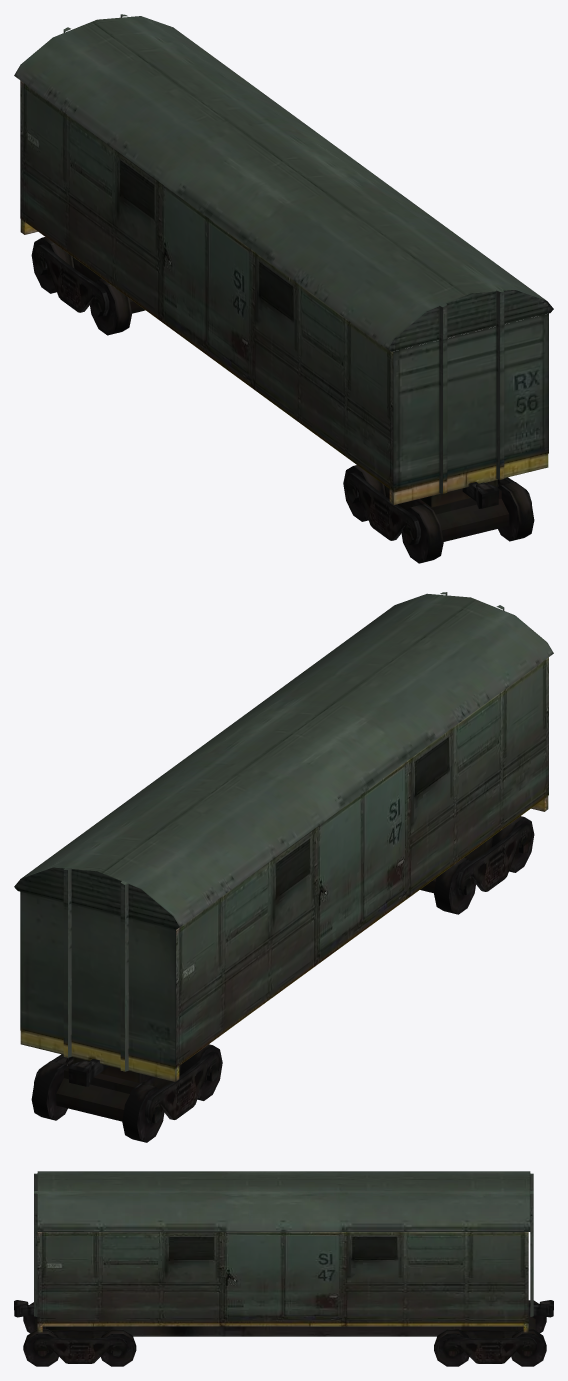
Rendered from train003.glb.
3 views of the same model, one above another, from view 1: azimuth 30°, elevation 25°; view 2: azimuth 150°, elevation 25°; view 3: azimuth 270°, elevation 25° (orthographic). The views are drawn at different scales.
Parts seen in each view (by area): view 1: 0_train003; view 2: 0_train003; view 3: 0_train003.
Part boxes in pixels (x1,y1,x2,y2): 0_train003: (14, 14, 553, 563); 0_train003: (14, 592, 553, 1142); 0_train003: (14, 1171, 553, 1366).
Size of the model in its own units: 3.31 by 4.9 by 14.18.
1 material, 1 textured.
